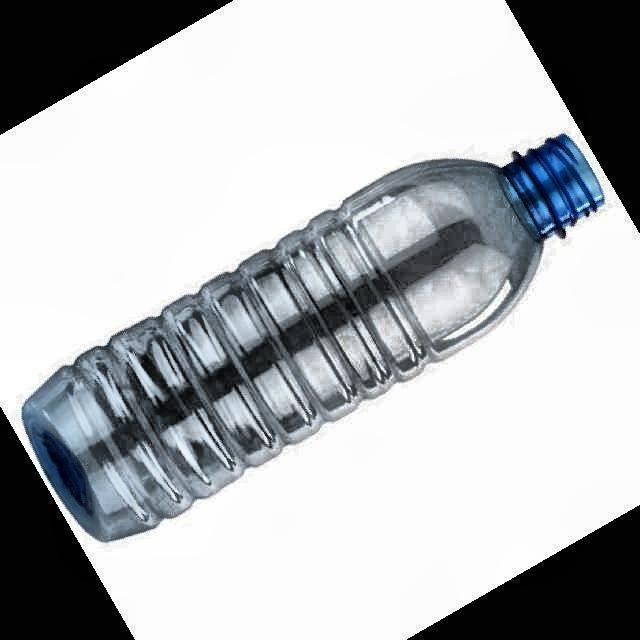plastic: (22, 135, 604, 541)
